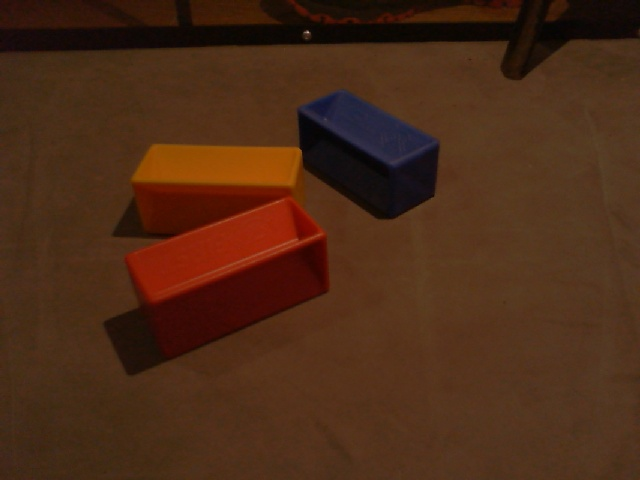BlueSample: (294, 87, 440, 220)
RedSample: (121, 193, 334, 358)
YellowSample: (130, 140, 305, 236)
